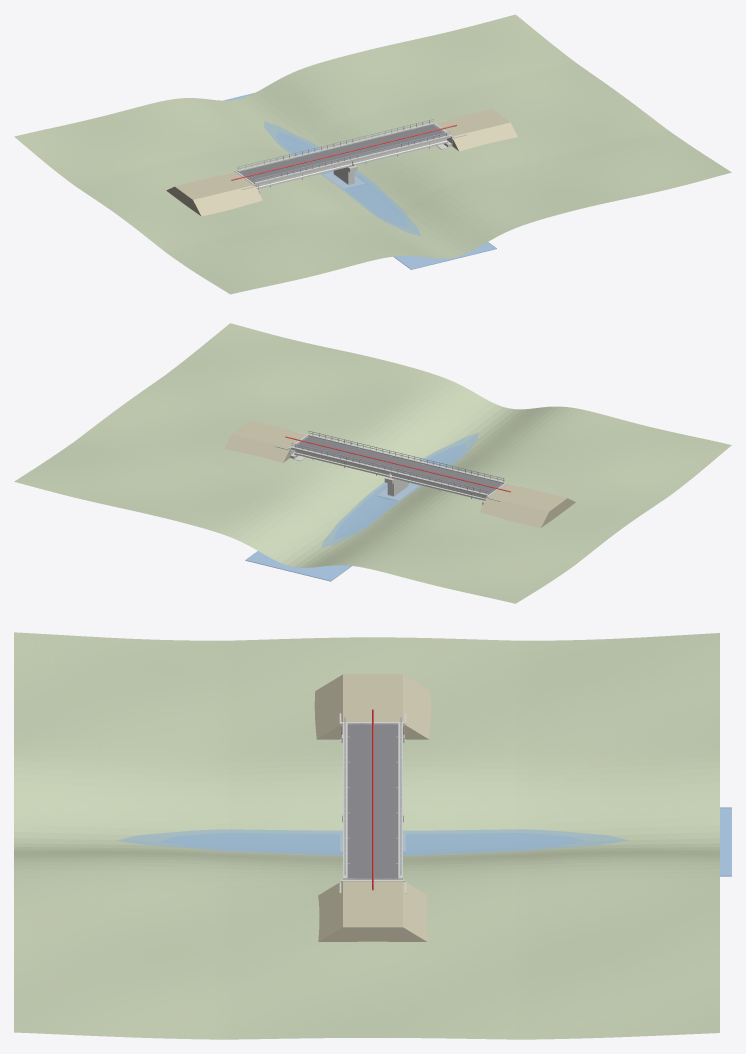
The picture shows the model from 3 angles, top to bottom: view 1: azimuth 30°, elevation 25°; view 2: azimuth 150°, elevation 25°; view 3: azimuth 270°, elevation 25°; orthographic projection. The views are drawn at different scales.
Parts seen in each view (by area): view 1: 地形|現況地形 (参考), 地形|水面 (参考), 上部工|舗装 (アスファルト t=8cm), 土工|取付部盛土 (起点側, 参考), 土工|取付部盛土 (終点側, 参考), 上部工|地覆 (左), 附属物|高欄 (左, 支柱31本), 附属物|高欄 (右, 支柱31本), 上部工|地覆 (右), 上部工|主桁 G5 (PC T桁 H=1.9m, 第1径間), 上部工|主桁 G5 (PC T桁 H=1.9m, 第2径間); view 2: 地形|現況地形 (参考), 地形|水面 (参考), 上部工|舗装 (アスファルト t=8cm), 土工|取付部盛土 (起点側, 参考), 土工|取付部盛土 (終点側, 参考), 上部工|地覆 (右), 附属物|高欄 (左, 支柱31本), 附属物|高欄 (右, 支柱31本), 上部工|地覆 (左), 上部工|主桁 G1 (PC T桁 H=1.9m, 第2径間), 上部工|主桁 G1 (PC T桁 H=1.9m, 第1径間); view 3: 地形|現況地形 (参考), 地形|水面 (参考), 上部工|舗装 (アスファルト t=8cm), 土工|取付部盛土 (終点側, 参考), 土工|取付部盛土 (起点側, 参考), 上部工|地覆 (左), 上部工|地覆 (右).
Part boxes in pixels (x1,y1,x2,y2): 地形|現況地形 (参考): (14,14,731,294); 地形|水面 (参考): (223,93,496,269); 上部工|舗装 (アスファルト t=8cm): (238,124,448,182); 土工|取付部盛土 (起点側, 参考): (166,172,262,216); 土工|取付部盛土 (終点側, 参考): (435,109,517,151); 上部工|地覆 (左): (254,135,451,184); 附属物|高欄 (左, 支柱31本): (254,131,450,182); 附属物|高欄 (右, 支柱31本): (237,119,433,169); 上部工|地覆 (右): (237,122,434,171); 上部工|主桁 G5 (PC T桁 H=1.9m, 第1径間): (256,162,350,189); 上部工|主桁 G5 (PC T桁 H=1.9m, 第2径間): (352,138,447,165); 地形|現況地形 (参考): (14,323,731,603); 地形|水面 (参考): (245,433,478,581); 上部工|舗装 (アスファルト t=8cm): (293,436,503,494); 土工|取付部盛土 (起点側, 参考): (479,483,575,527); 土工|取付部盛土 (終点側, 参考): (224,420,306,462); 上部工|地覆 (右): (291,446,488,496); 附属物|高欄 (左, 支柱31本): (308,430,504,481); 附属物|高欄 (右, 支柱31本): (291,443,487,494); 上部工|地覆 (左): (308,434,505,483); 上部工|主桁 G1 (PC T桁 H=1.9m, 第2径間): (294,450,389,477); 上部工|主桁 G1 (PC T桁 H=1.9m, 第1径間): (391,474,486,500); 地形|現況地形 (参考): (14,632,719,1039); 地形|水面 (参考): (117,807,731,876); 上部工|舗装 (アスファルト t=8cm): (347,723,398,879); 土工|取付部盛土 (終点側, 参考): (318,881,427,941); 土工|取付部盛土 (起点側, 参考): (314,674,431,739); 上部工|地覆 (左): (343,722,347,879); 上部工|地覆 (右): (398,722,402,879).
Bounding box in the file's own units: 158 × 25.96 × 120.
